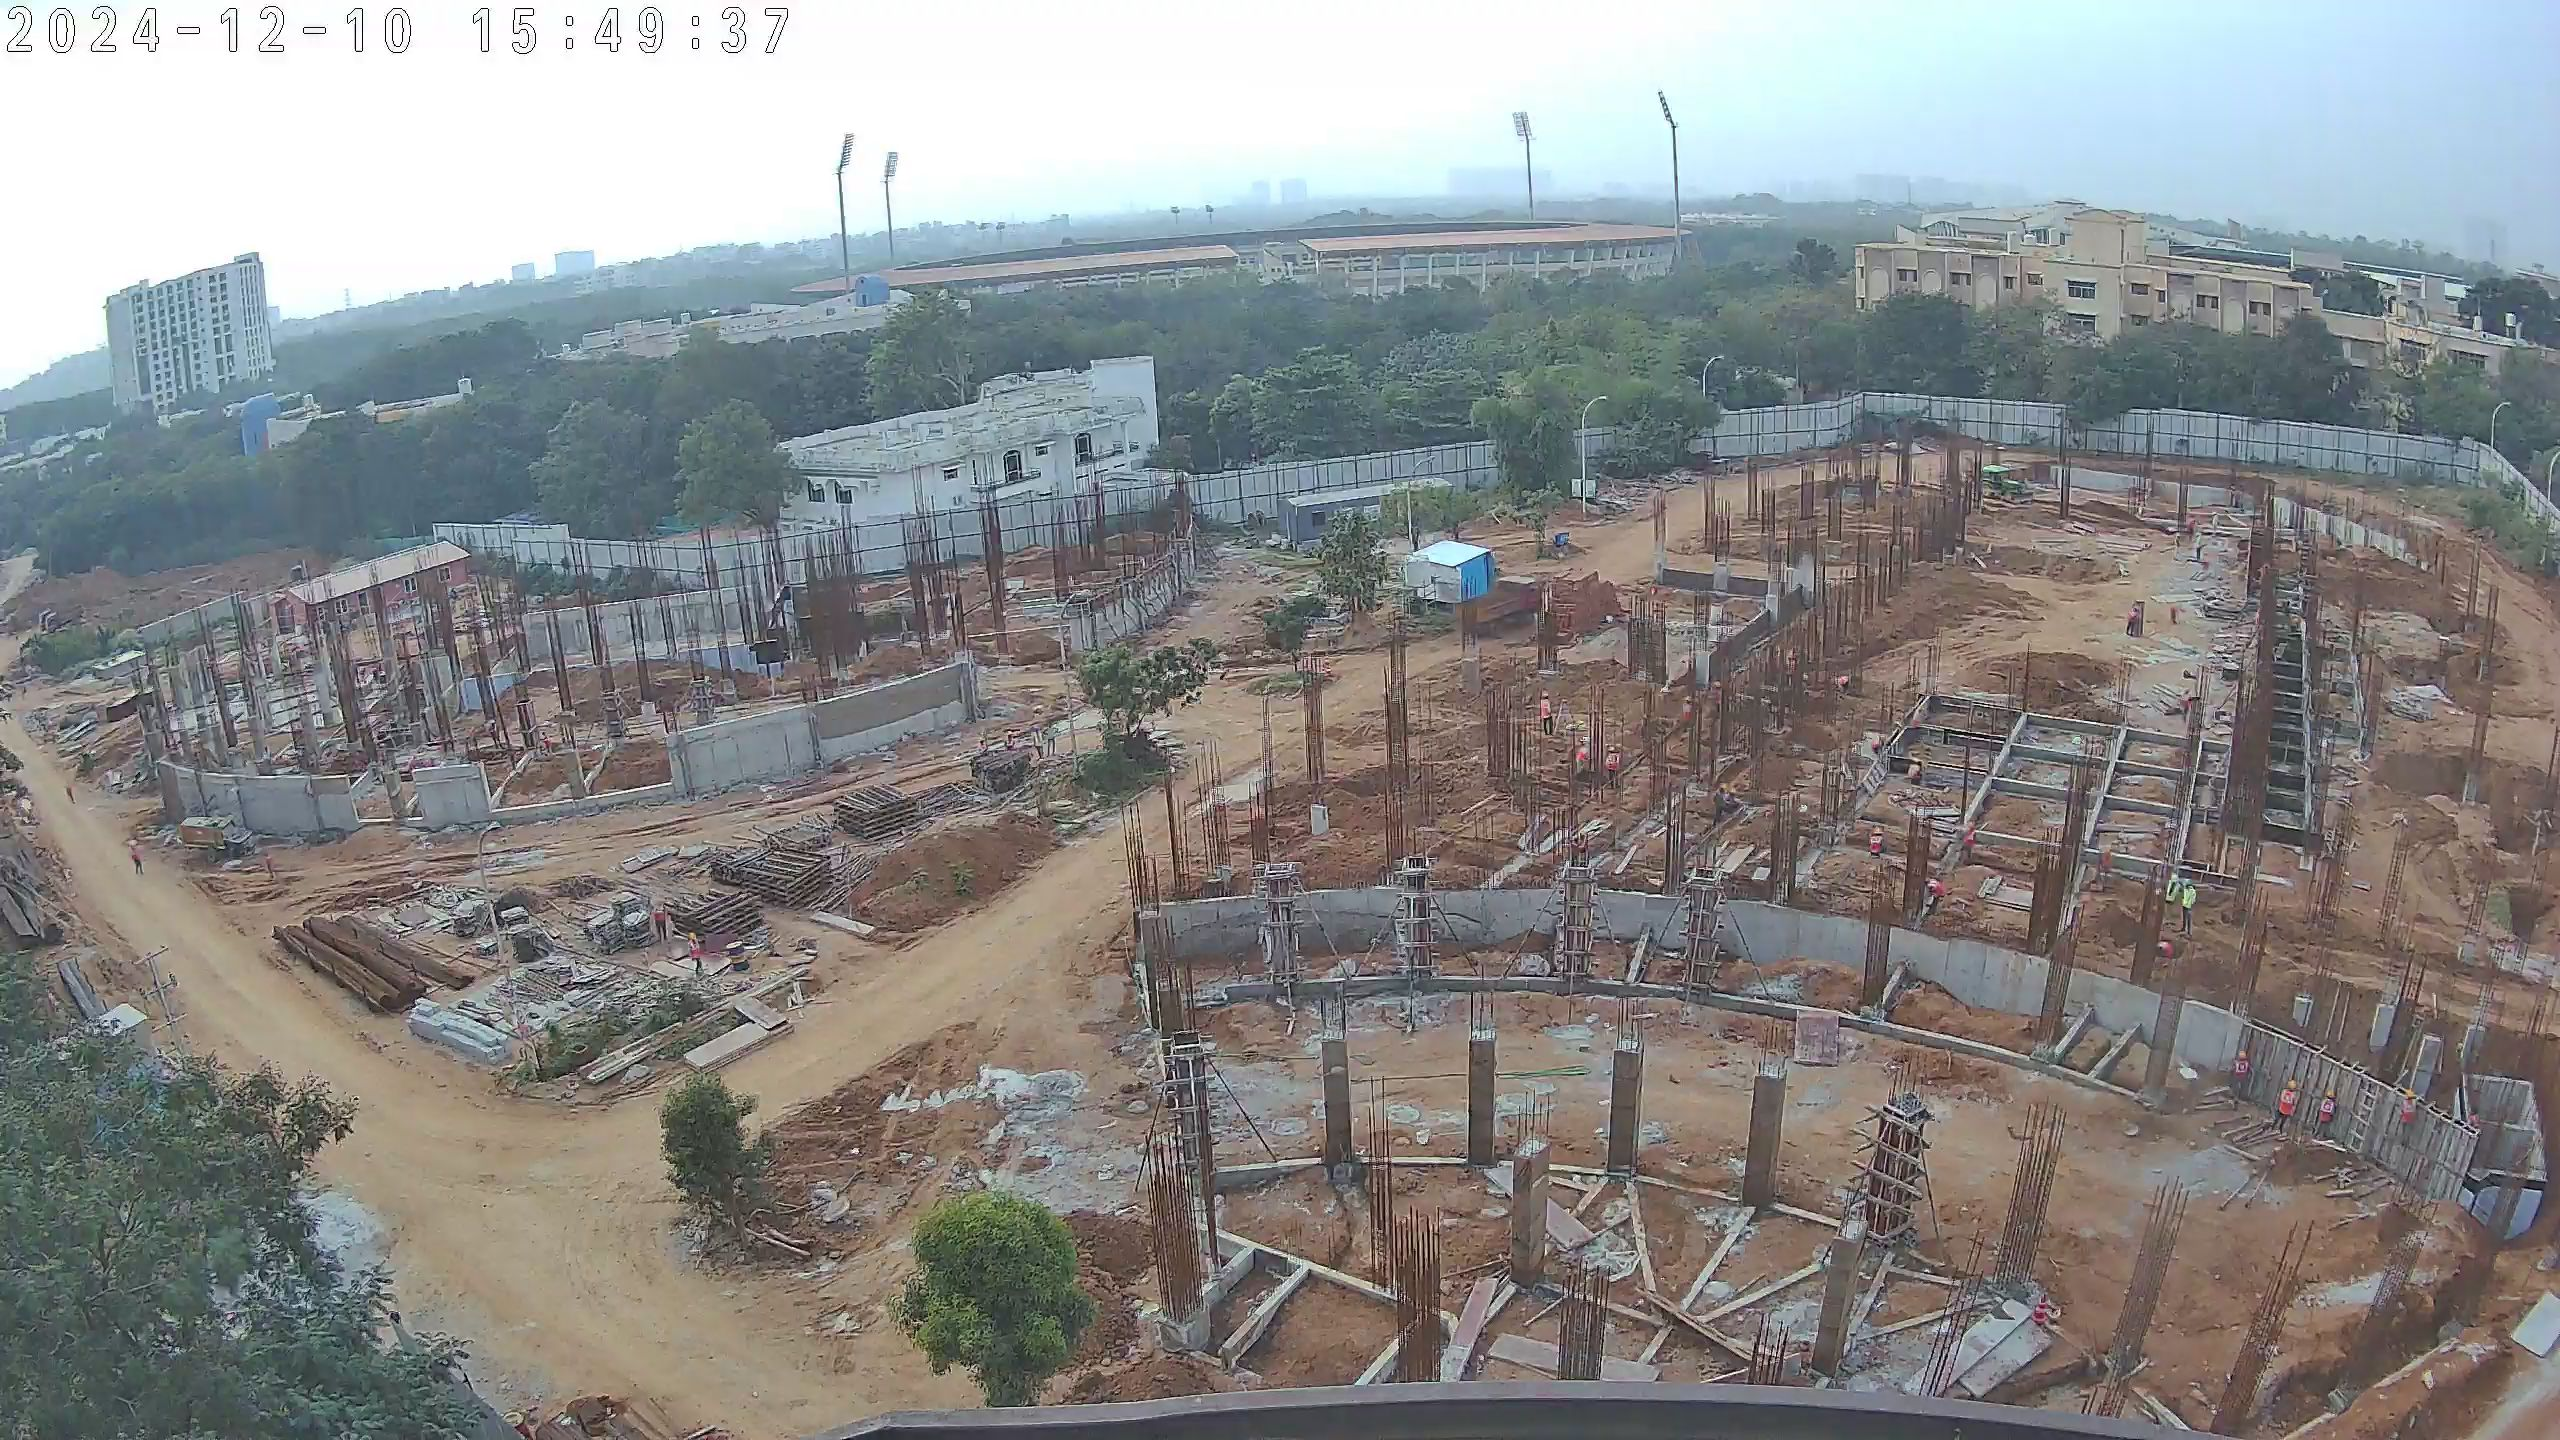bulldozer: (1958, 458, 2040, 511)
truck: (1452, 569, 1556, 642)
worker: (2161, 861, 2186, 931), (2176, 874, 2202, 941), (2274, 1081, 2302, 1139), (1593, 745, 1624, 795), (1959, 814, 1986, 871), (1531, 691, 1564, 737), (124, 832, 154, 881), (1916, 871, 1949, 915), (684, 929, 710, 980), (2229, 1047, 2252, 1104), (647, 897, 673, 947), (1865, 818, 1891, 866), (1779, 648, 1804, 696), (1674, 695, 1701, 739), (2395, 1083, 2414, 1143), (2174, 679, 2198, 724), (2314, 1091, 2335, 1141), (1707, 679, 1731, 722), (1901, 756, 1933, 786), (1709, 779, 1727, 827), (1721, 787, 1748, 819), (2164, 596, 2190, 629), (258, 847, 282, 882), (1042, 720, 1061, 762), (2119, 604, 2141, 639), (1830, 669, 1854, 700), (970, 729, 991, 761), (1029, 724, 1046, 763), (2170, 529, 2187, 564), (1867, 735, 1889, 762), (2190, 529, 2206, 566), (2208, 506, 2223, 541), (998, 731, 1019, 756), (62, 780, 78, 809)
